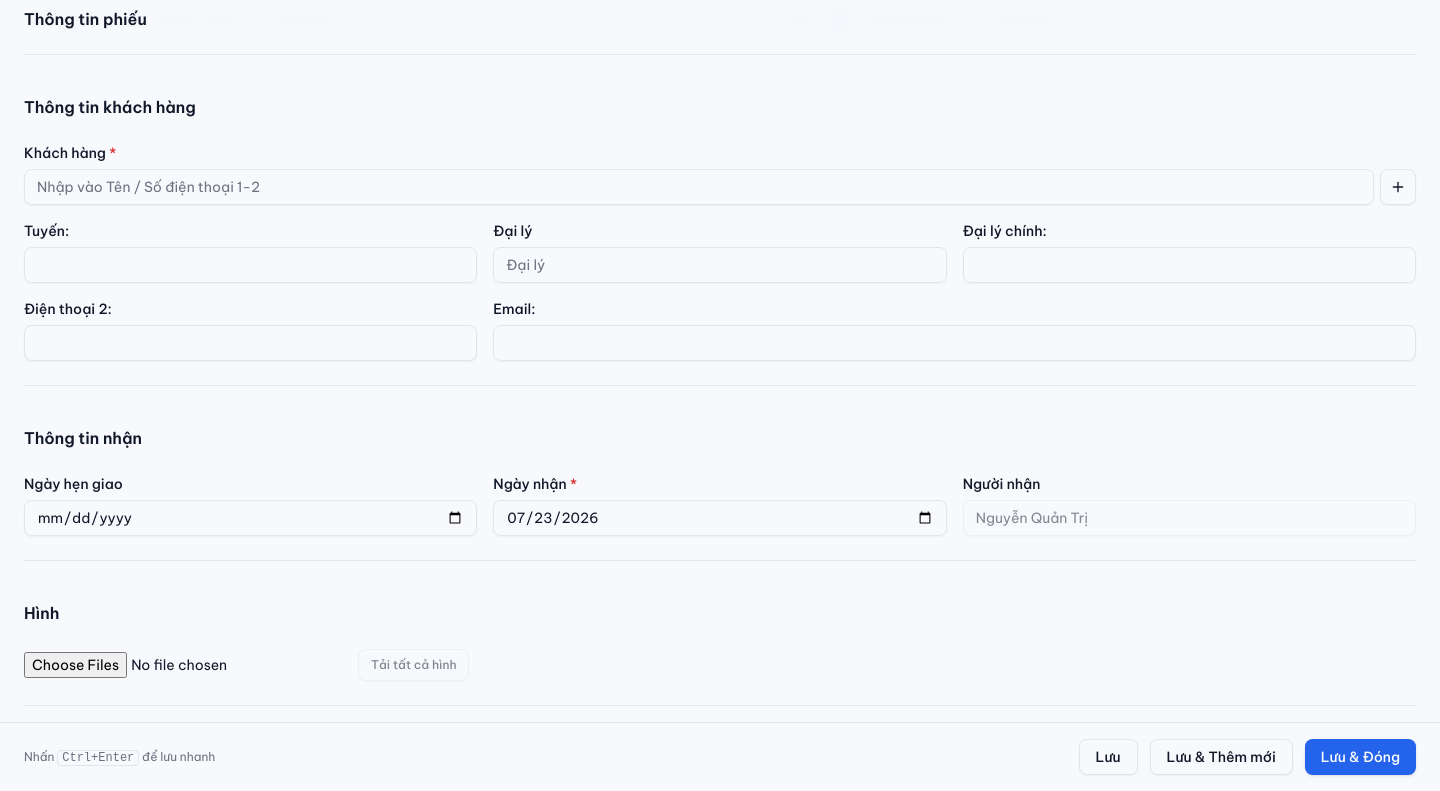
Test: RepairCreateForm › shows an inline error when the promised delivery date is before receipt
(page scrolled)
Step 1. Type "2026-07-14" into the date field labelled "Ngày nhận *" → (720, 518), box [493,500,947,536]
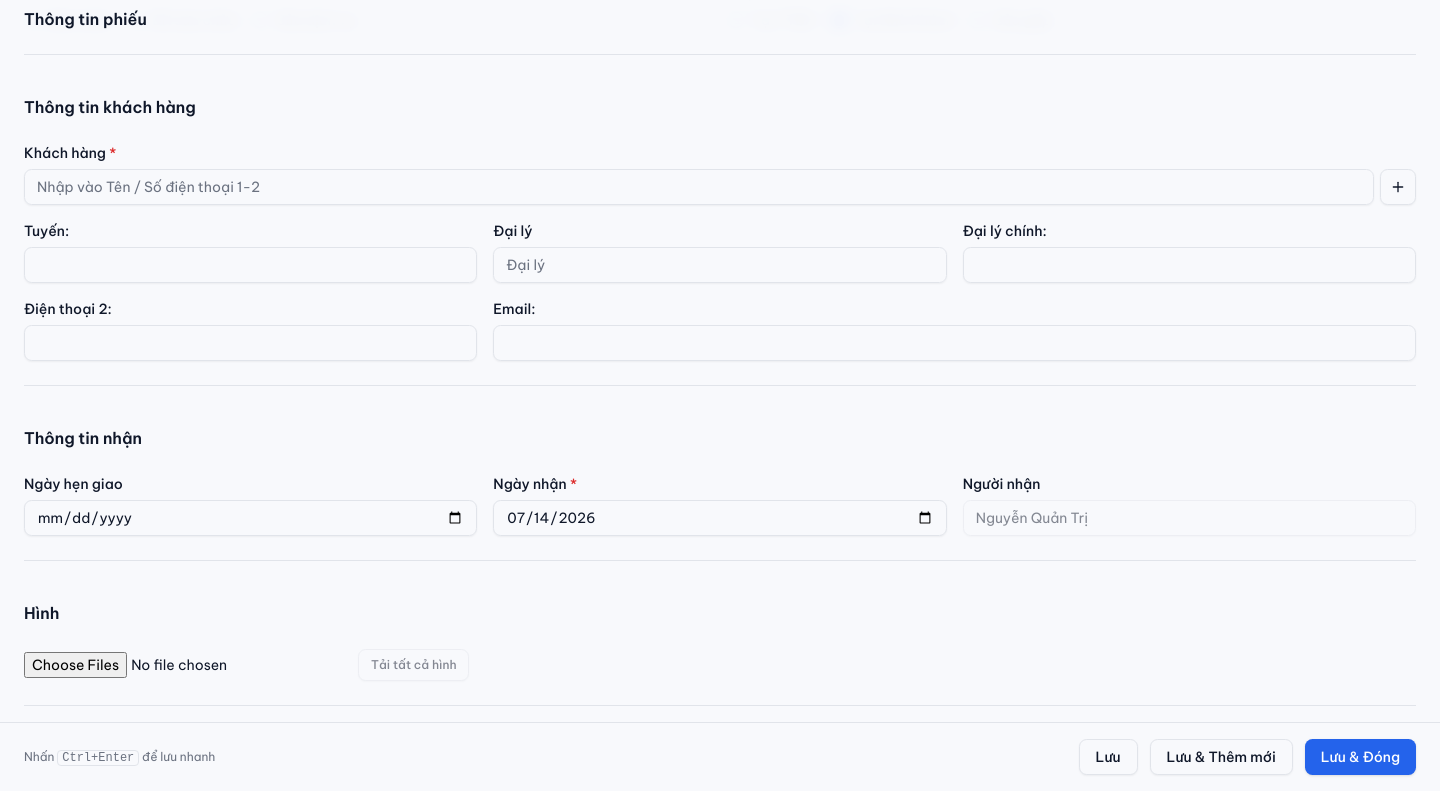
Step 2. Type "2026-07-13" into the date field labelled "Ngày hẹn giao" → (251, 518), box [24,500,477,536]
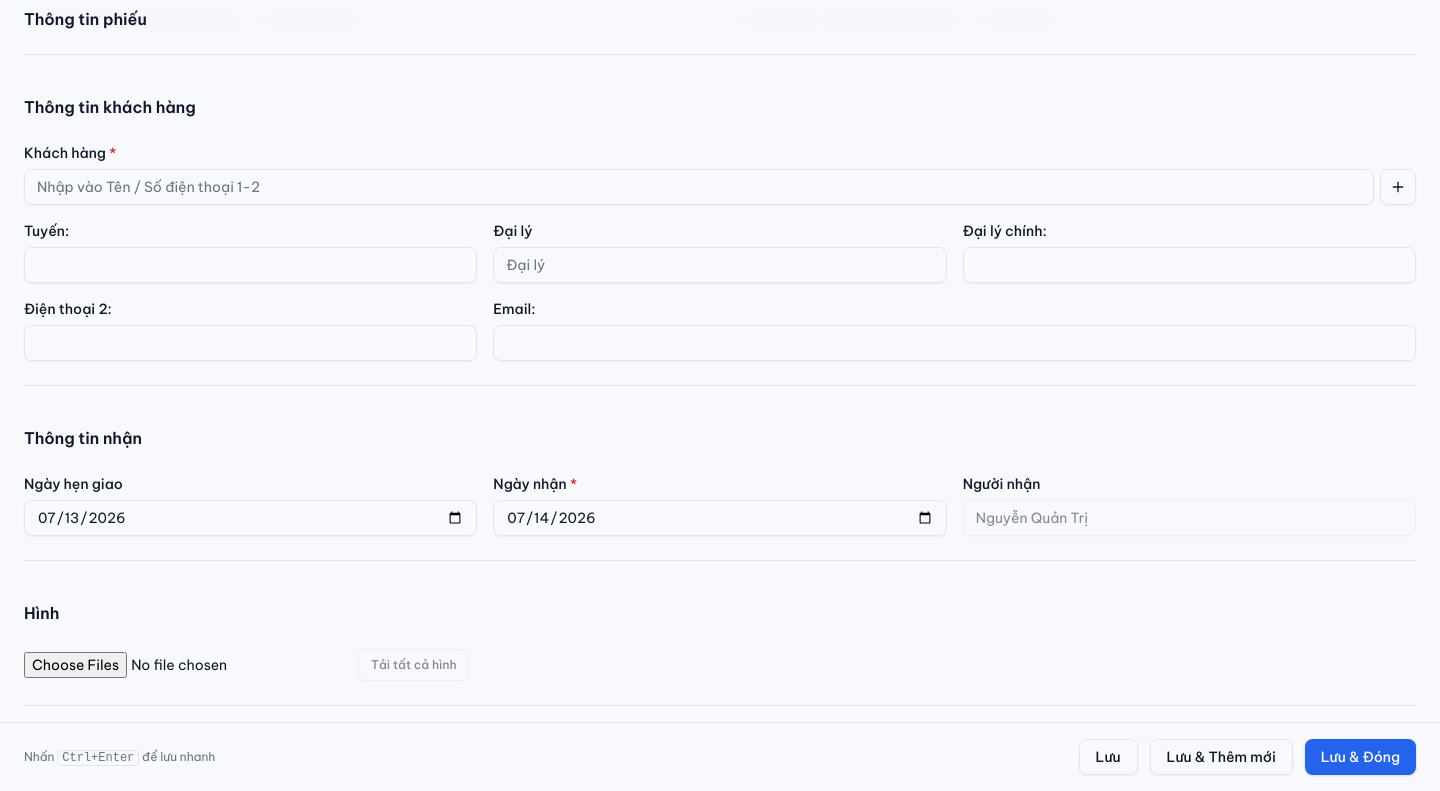
Step 3. Click the button "Lưu" → (1108, 757), box [1079,739,1138,775]
(page scrolled)
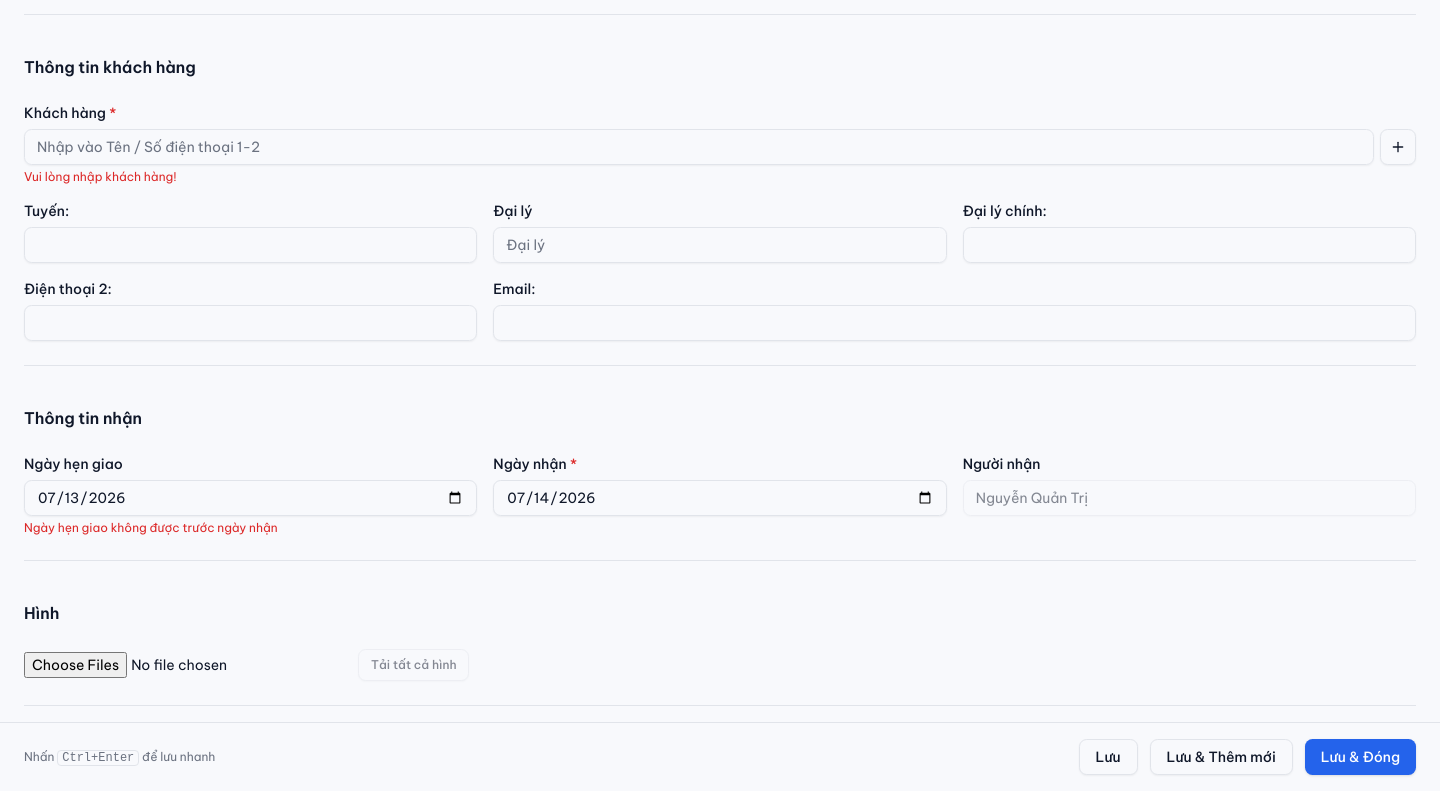
expect the text "Ngày hẹn giao không được trước ngày nhận" is shown: met, box [24,520,278,535]
